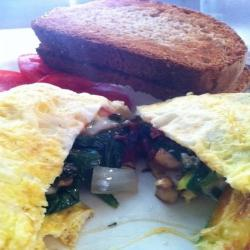bread: (36, 1, 243, 98)
omelette: (1, 83, 99, 250), (142, 94, 250, 218)
